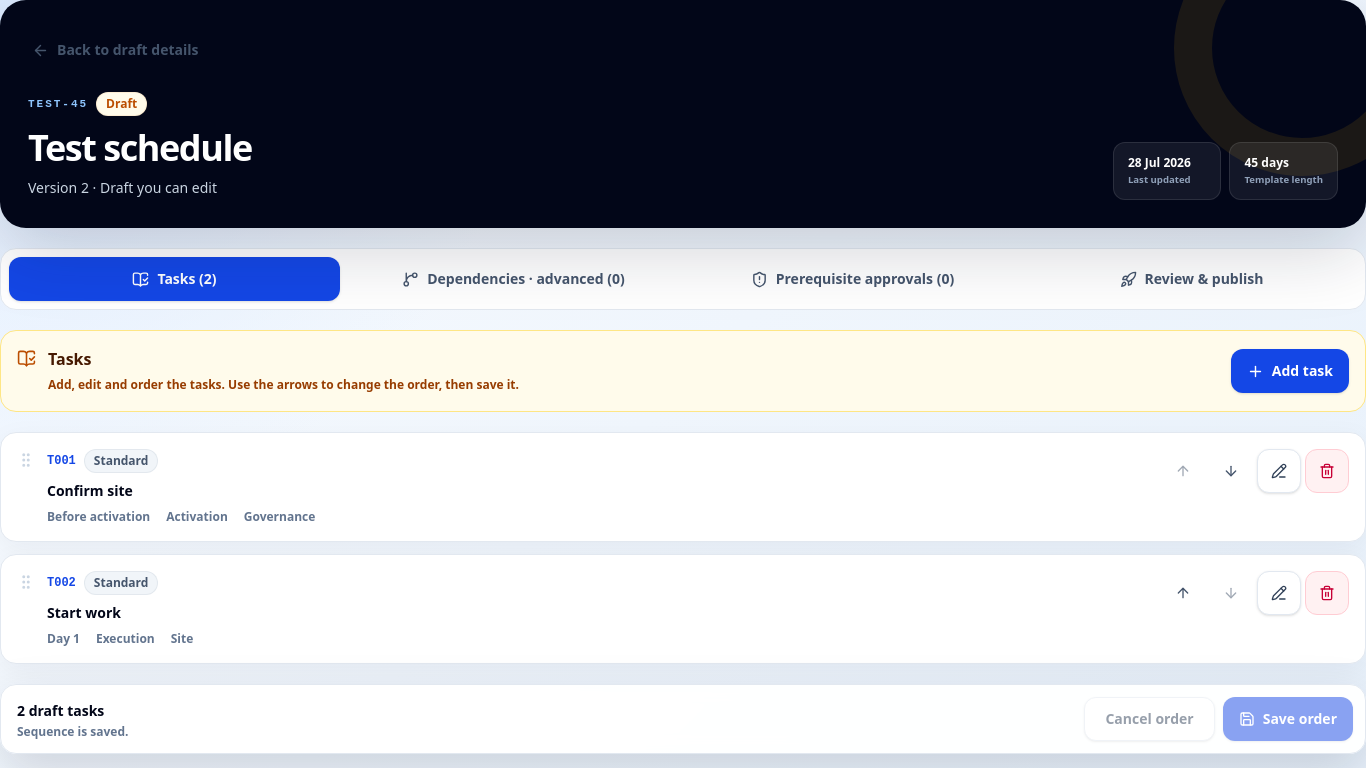
Test: draft task authoring › surfaces dependency and gate conflicts without deleting references
Expected: the element with test id "draft-task-T002" is shown, [0,554,1365,664]
Click the button named "Delete T002": point(1327, 593) [1305,571,1349,615]
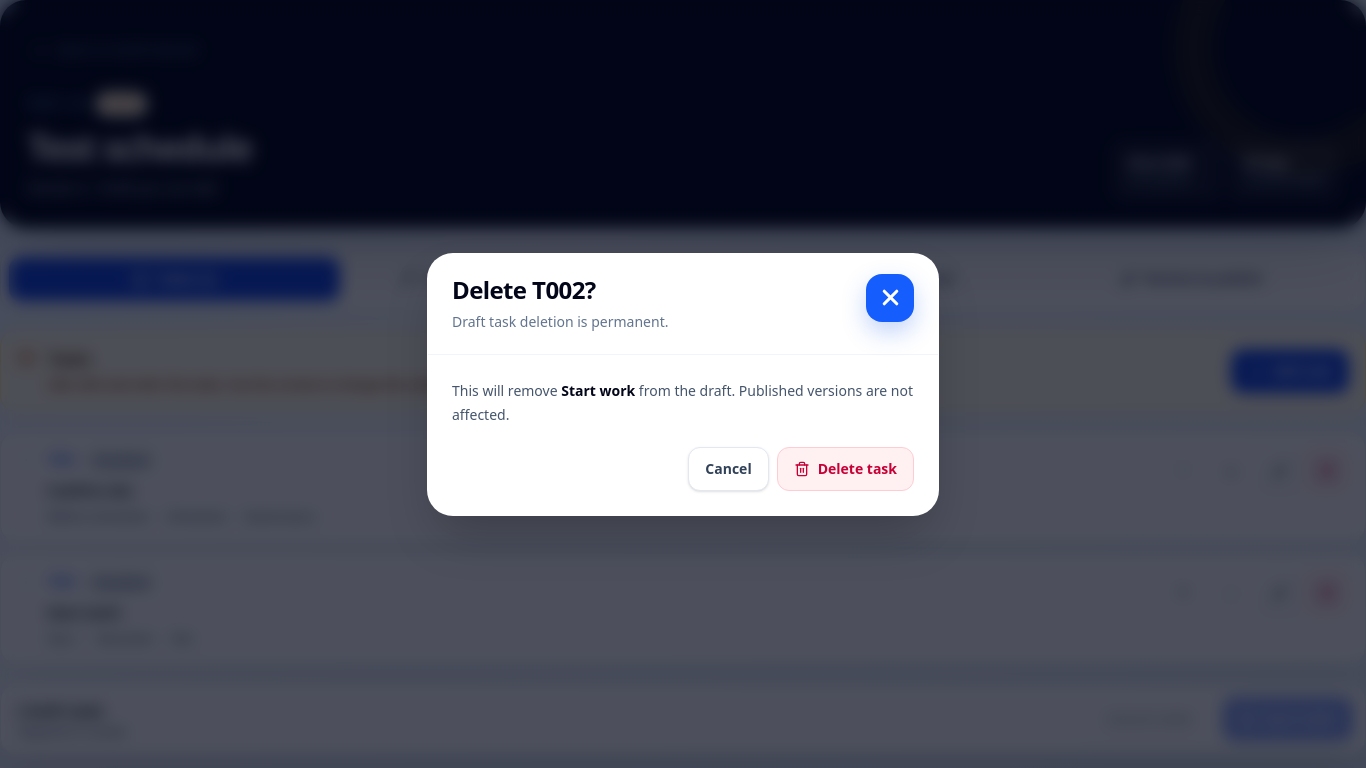
Click the button "Delete task": point(845, 468) [777,446,914,490]
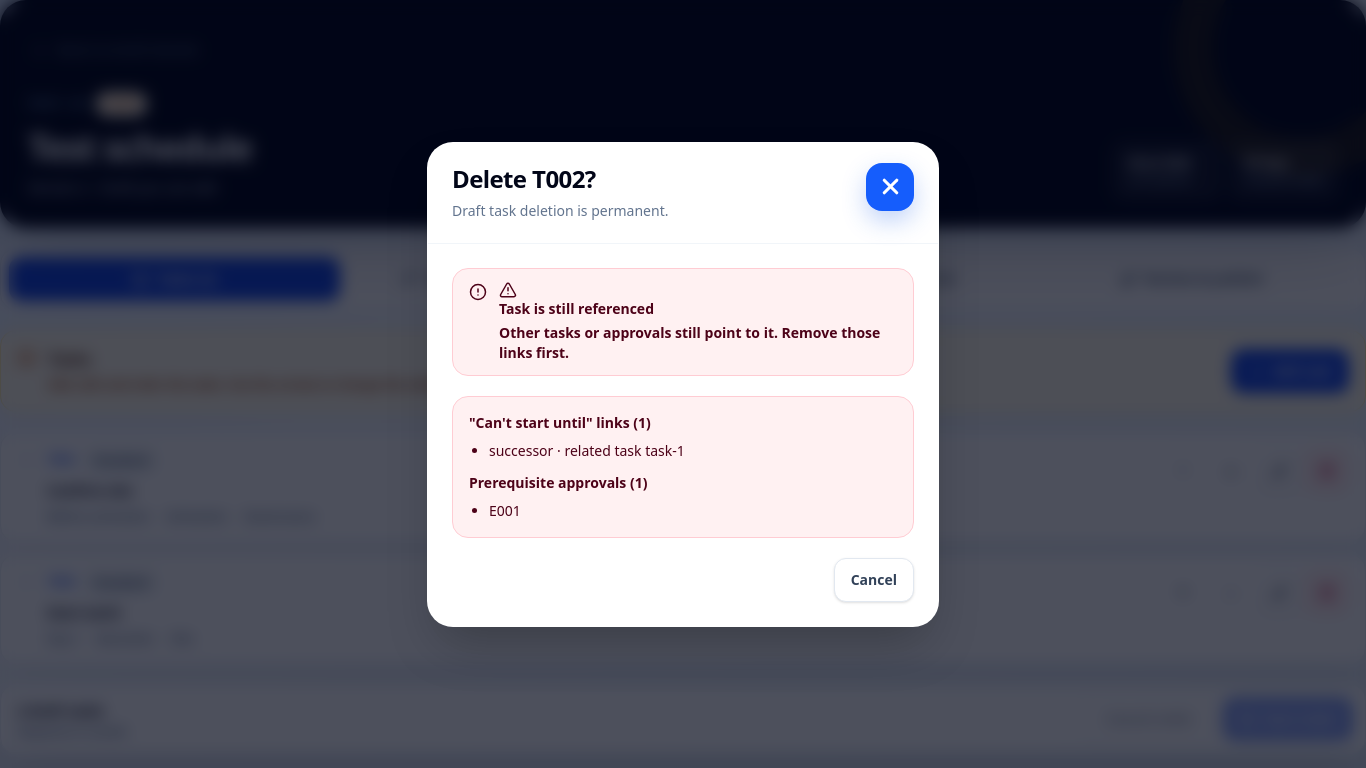
Result: the text "Task is still referenced" is shown at [499,298,654,318]
Result: the list item "successor · related task task-1" is shown at [489,440,685,460]
Result: the list item "E001" is shown at [489,500,521,520]
